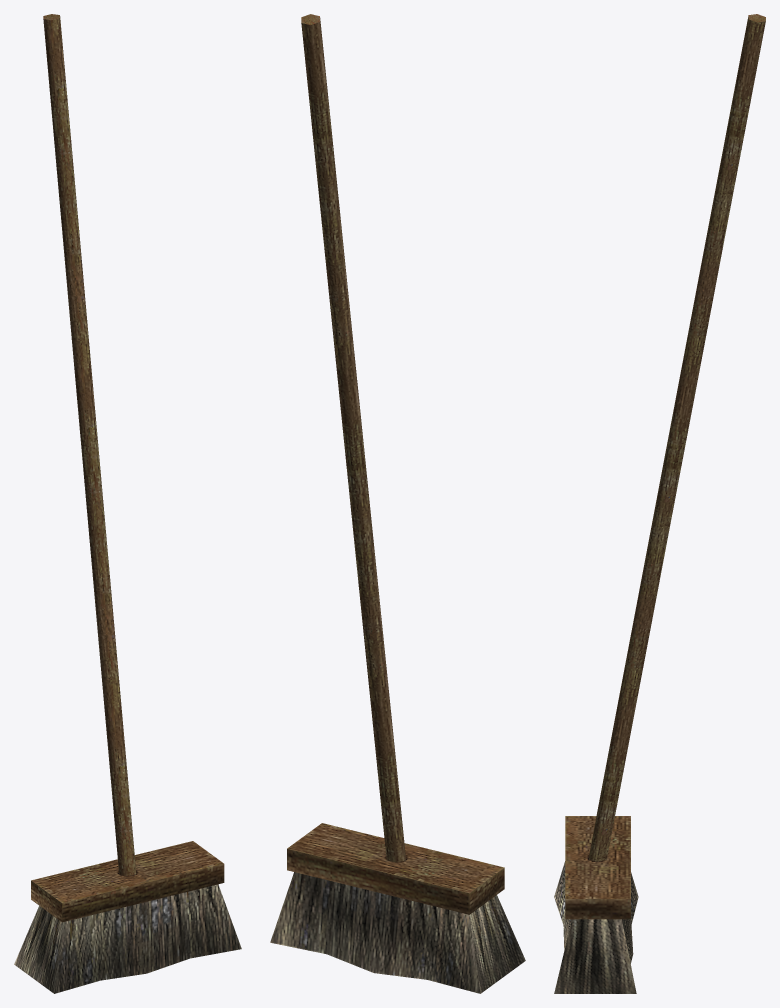
File: sm20_006_brush01a.fbx
3 renders of one model, left to right at view 1: azimuth 30°, elevation 25°; view 2: azimuth 150°, elevation 25°; view 3: azimuth 270°, elevation 25°, orthographic. The views are drawn at different scales.
Visible parts, largest first — view 1: LOD_1_Group_0_Sub_1__sm20_006_Brush01A_A_Mat; view 2: LOD_1_Group_0_Sub_1__sm20_006_Brush01A_A_Mat; view 3: LOD_1_Group_0_Sub_1__sm20_006_Brush01A_A_Mat.
Part boxes in pixels (<box>): LOD_1_Group_0_Sub_1__sm20_006_Brush01A_A_Mat: <box>14,14,241,993</box>; LOD_1_Group_0_Sub_1__sm20_006_Brush01A_A_Mat: <box>270,14,525,993</box>; LOD_1_Group_0_Sub_1__sm20_006_Brush01A_A_Mat: <box>554,14,765,993</box>.
Bounding box in the file's own units: 0.3366 × 1.53 × 0.3135.
